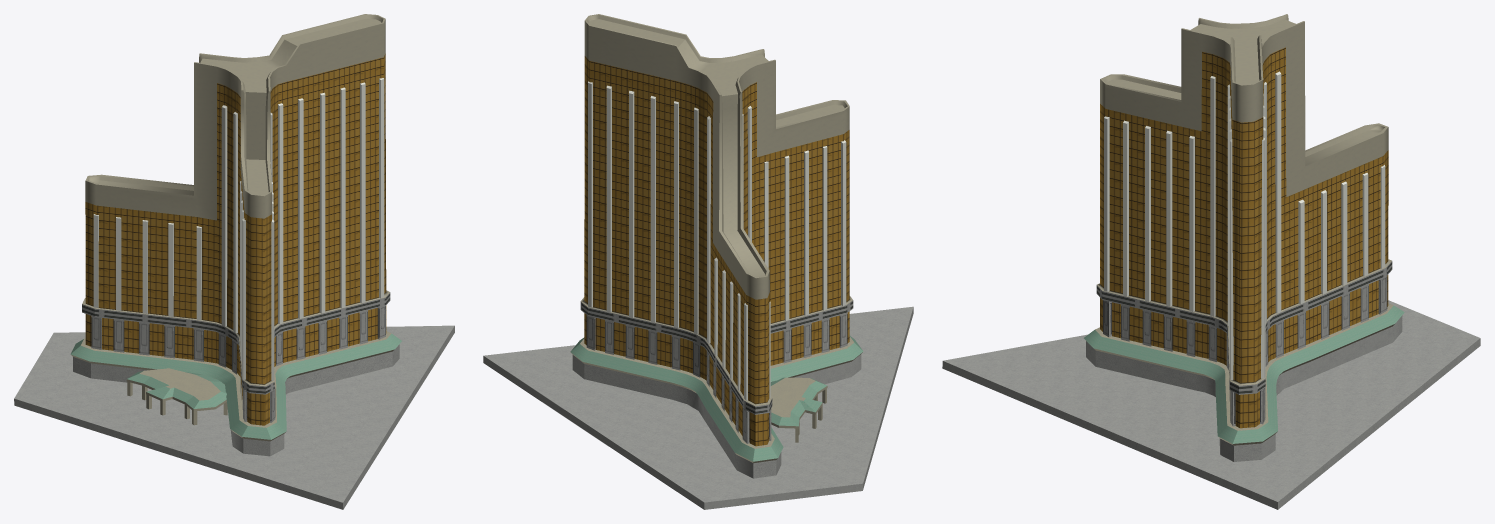
File: Re_Invent_track_landmark_04.dae
3 renders of one model, left to right at view 1: azimuth 30°, elevation 25°; view 2: azimuth 150°, elevation 25°; view 3: azimuth 270°, elevation 25°, orthographic. The views are drawn at different scales.
Visible parts, largest first — view 1: Re_Invent_track_landmark_04; view 2: Re_Invent_track_landmark_04; view 3: Re_Invent_track_landmark_04.
Part boxes in pixels (x1,y1,x2,y2): Re_Invent_track_landmark_04: [14, 14, 454, 509]; Re_Invent_track_landmark_04: [483, 14, 913, 509]; Re_Invent_track_landmark_04: [942, 14, 1480, 509].
Bounding box in the file's own units: 9.12 × 9.61 × 7.47.
Materials: 5 (5 with a texture image).
